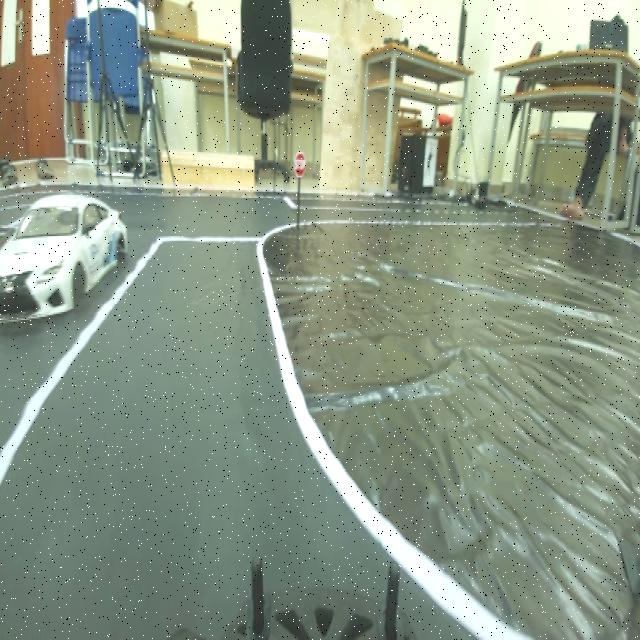car: (2, 176, 127, 345)
stop: (288, 142, 306, 183)
